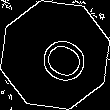O_NW: (22, 23, 88, 87)
